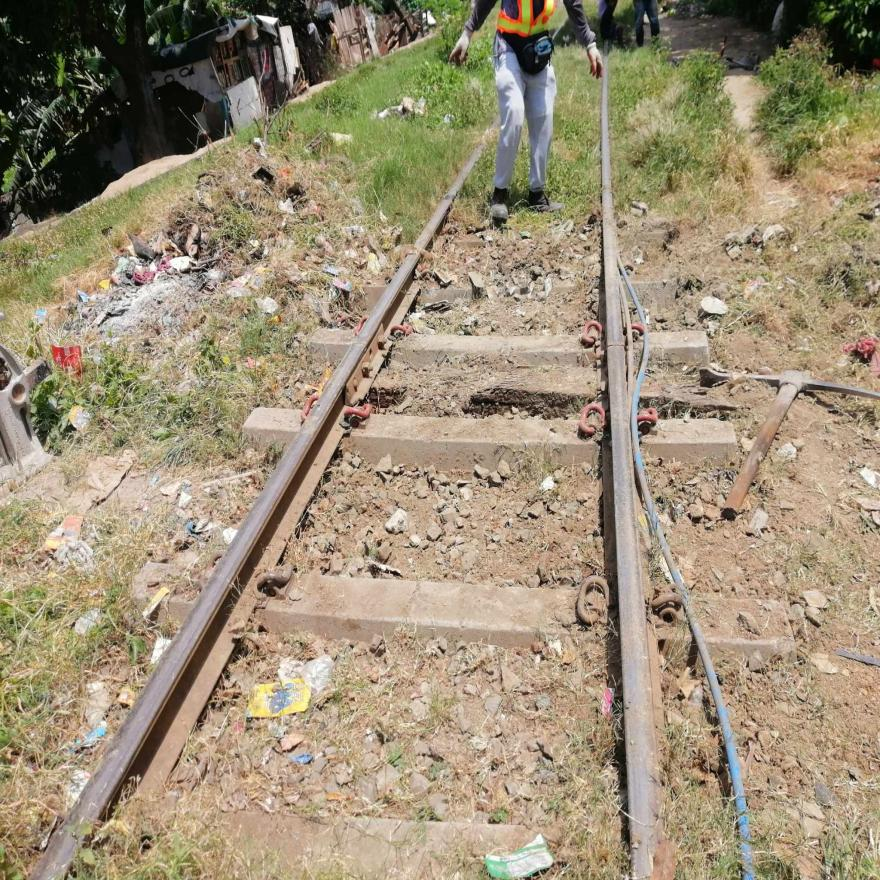railway-gap: (582, 315, 650, 376)
